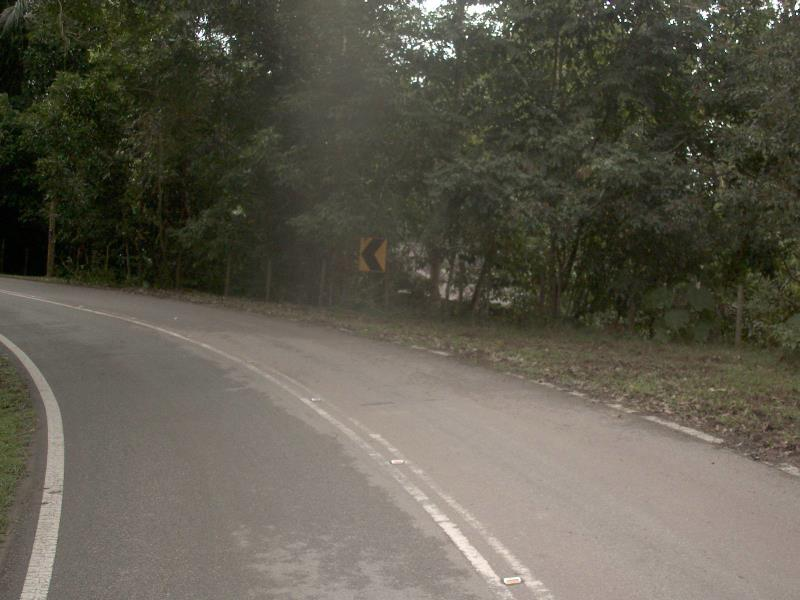traffic_sign: (348, 226, 395, 284)
